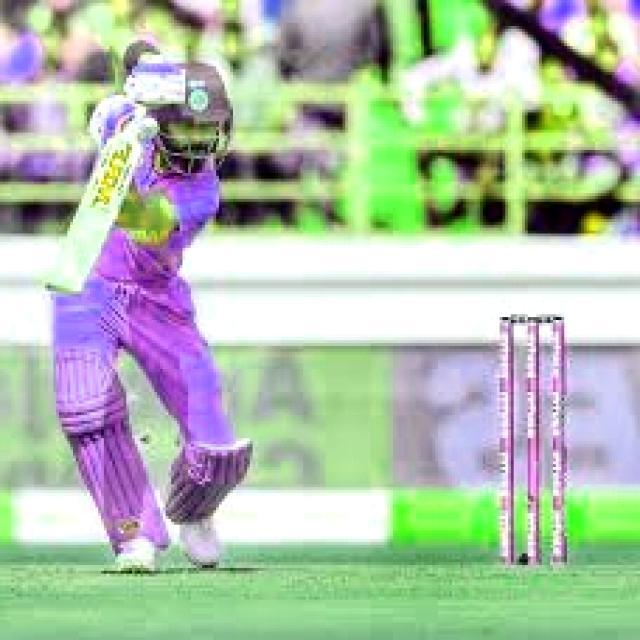bat: (42, 125, 135, 305)
toe: (40, 281, 90, 300)
